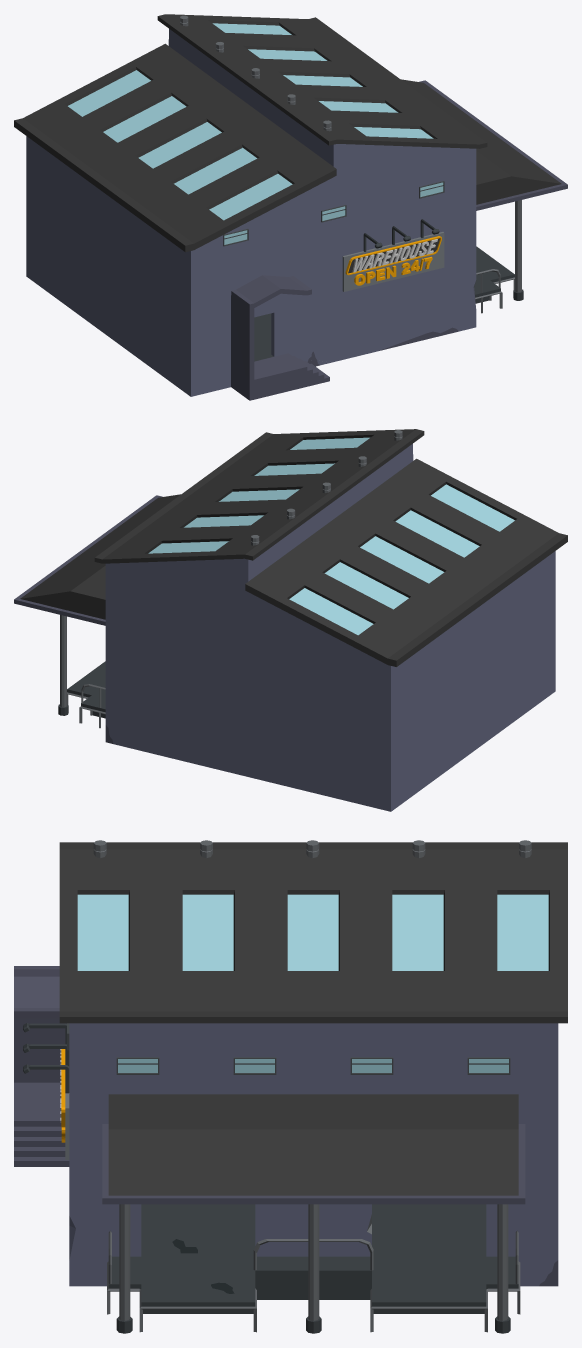
File: SM_Buildings_Warehouse_01.fbx
3 views of the same model, one above another, from view 1: azimuth 30°, elevation 25°; view 2: azimuth 150°, elevation 25°; view 3: azimuth 270°, elevation 25° (orthographic). The views are drawn at different scales.
Visible parts, largest first — view 1: SM_Buildings_Warehouse_01; view 2: SM_Buildings_Warehouse_01; view 3: SM_Buildings_Warehouse_01.
Boxes of the visible parts, x1,y1,x2,y2 form: SM_Buildings_Warehouse_01: (14,14,567,400); SM_Buildings_Warehouse_01: (14,429,567,811); SM_Buildings_Warehouse_01: (14,840,567,1333).
Size of the model in its own units: 20.87 by 11.62 by 17.
